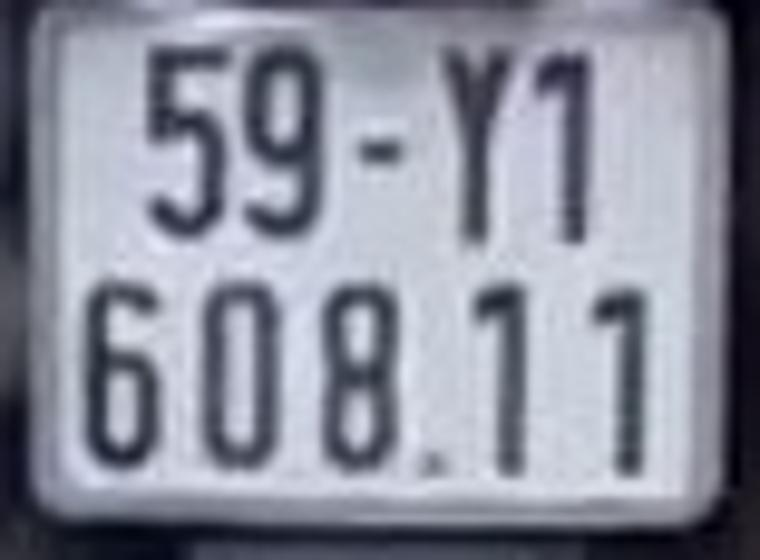-: (353, 131, 406, 167)
.: (419, 440, 448, 491)
0: (197, 278, 287, 474)
1: (538, 48, 598, 260), (476, 279, 534, 479), (599, 278, 655, 482)
5: (141, 42, 231, 241)
6: (81, 276, 164, 472)
8: (321, 279, 405, 479)
9: (244, 46, 322, 233)
Y: (439, 40, 513, 240)
